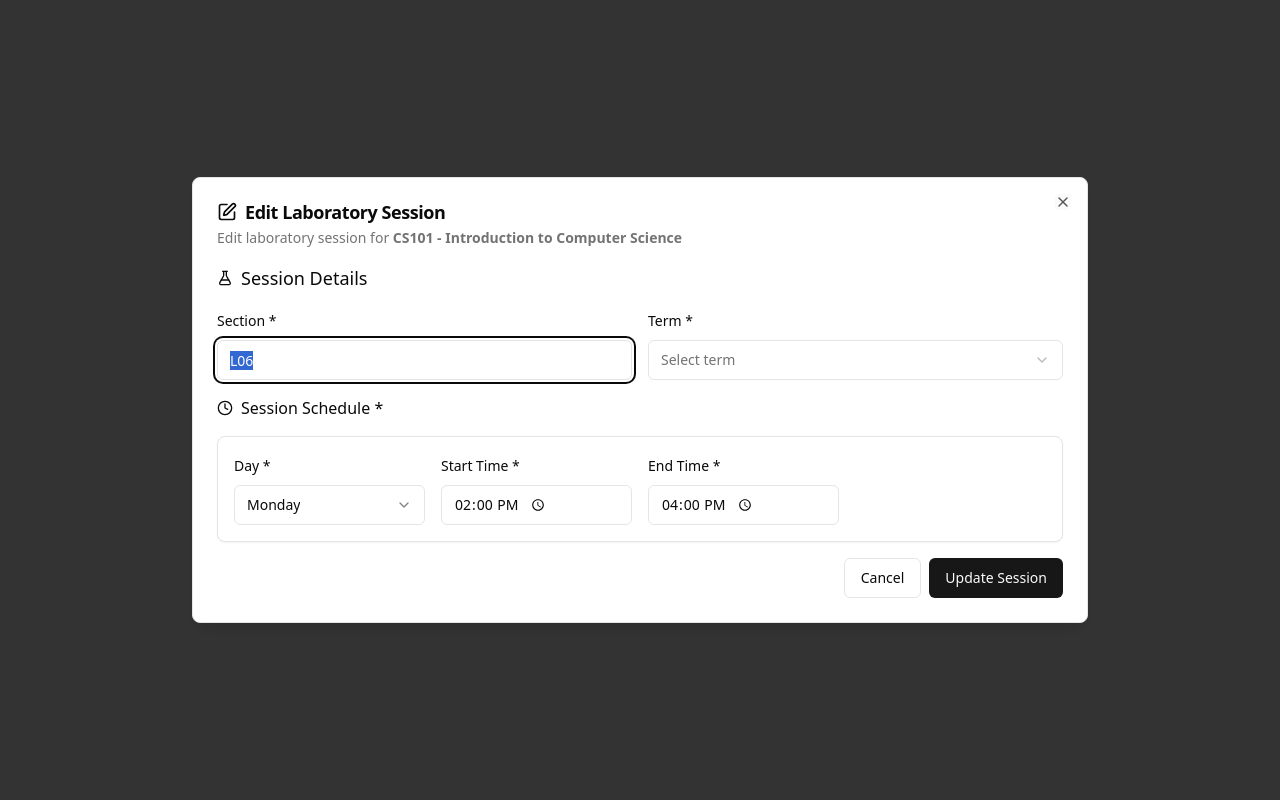
Test: EditSessionModal › validates term selection is required
Click the button "Update Session" at (996, 578), box x1=929 y1=558 x2=1063 y2=598
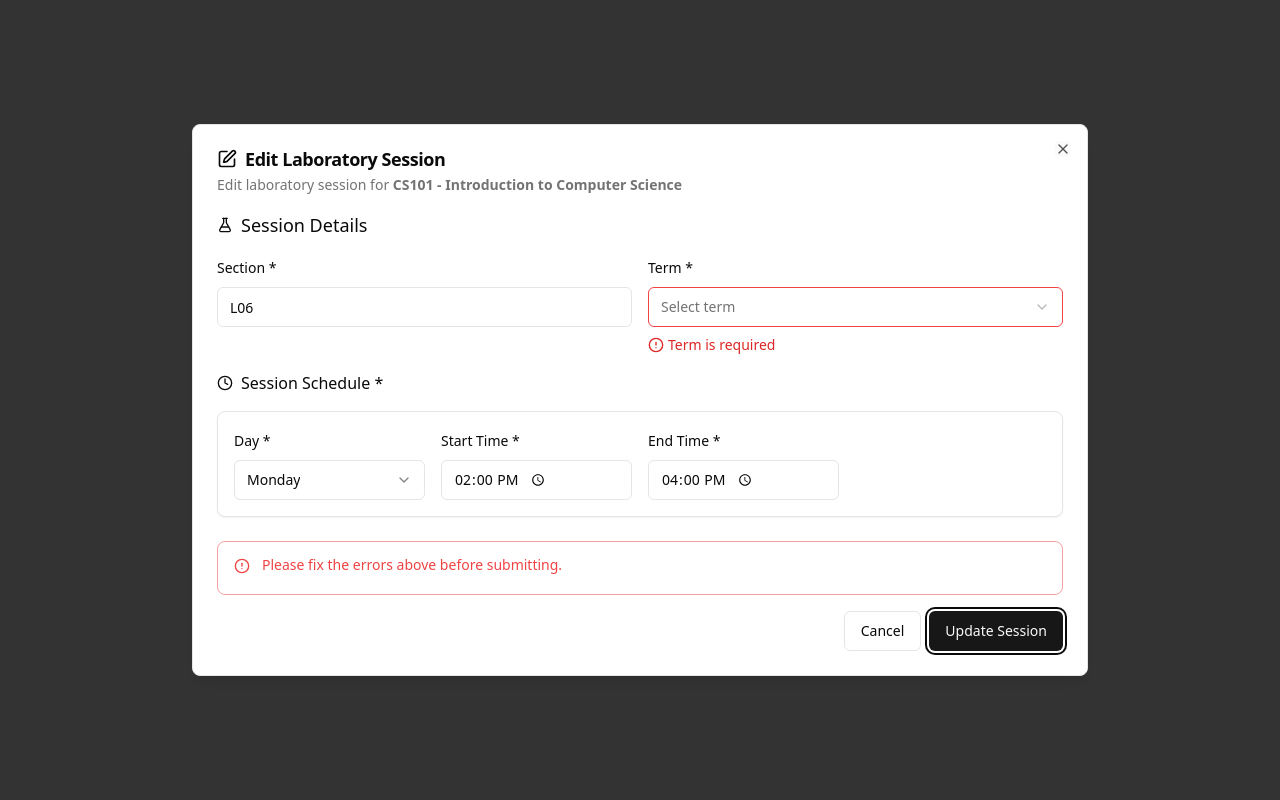
Check: the text "Term is required" is shown, box x1=648 y1=335 x2=776 y2=354
